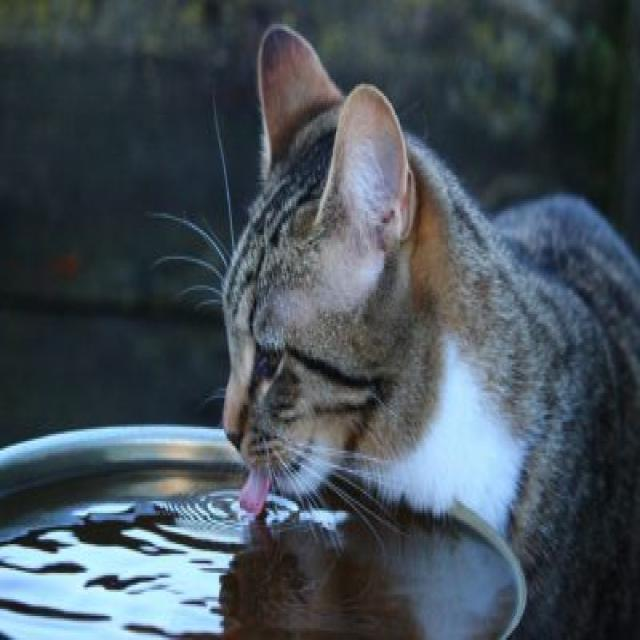cat: (222, 26, 640, 637)
